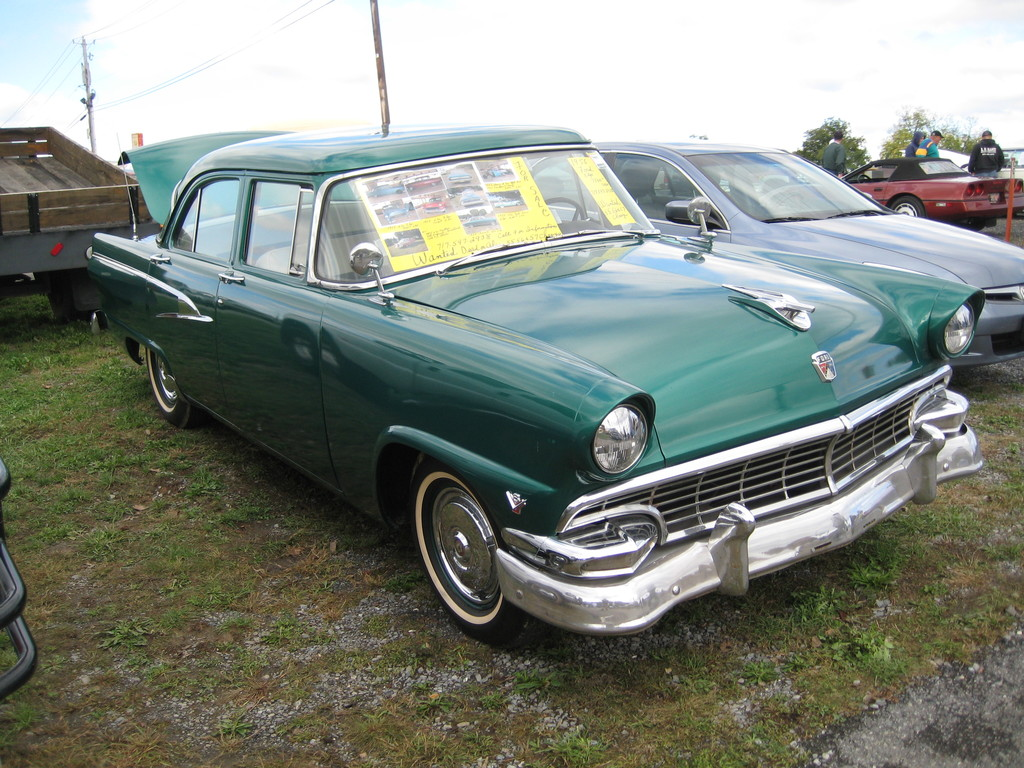cars: (84, 118, 1023, 647)
